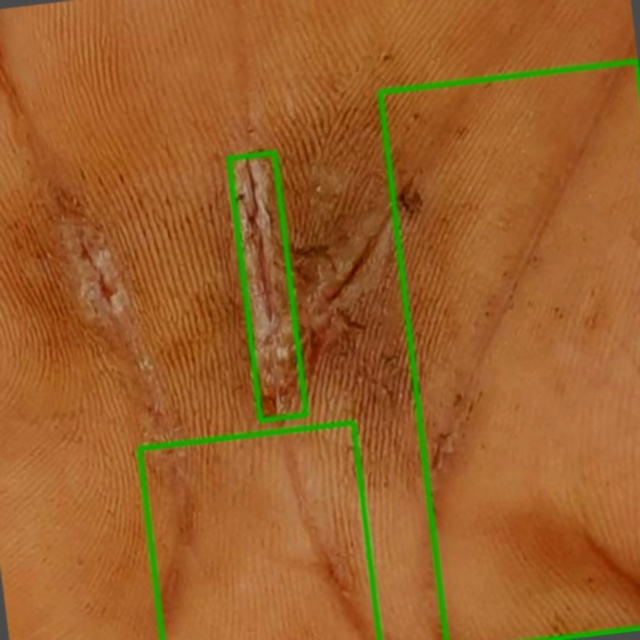Contact Dermatitis: (379, 61, 639, 639), (140, 424, 379, 639), (229, 152, 306, 420)
